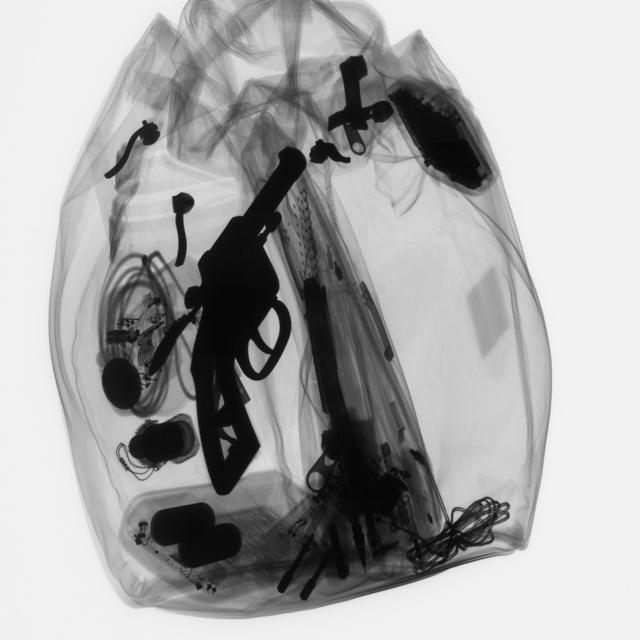gun: (176, 139, 314, 499)
